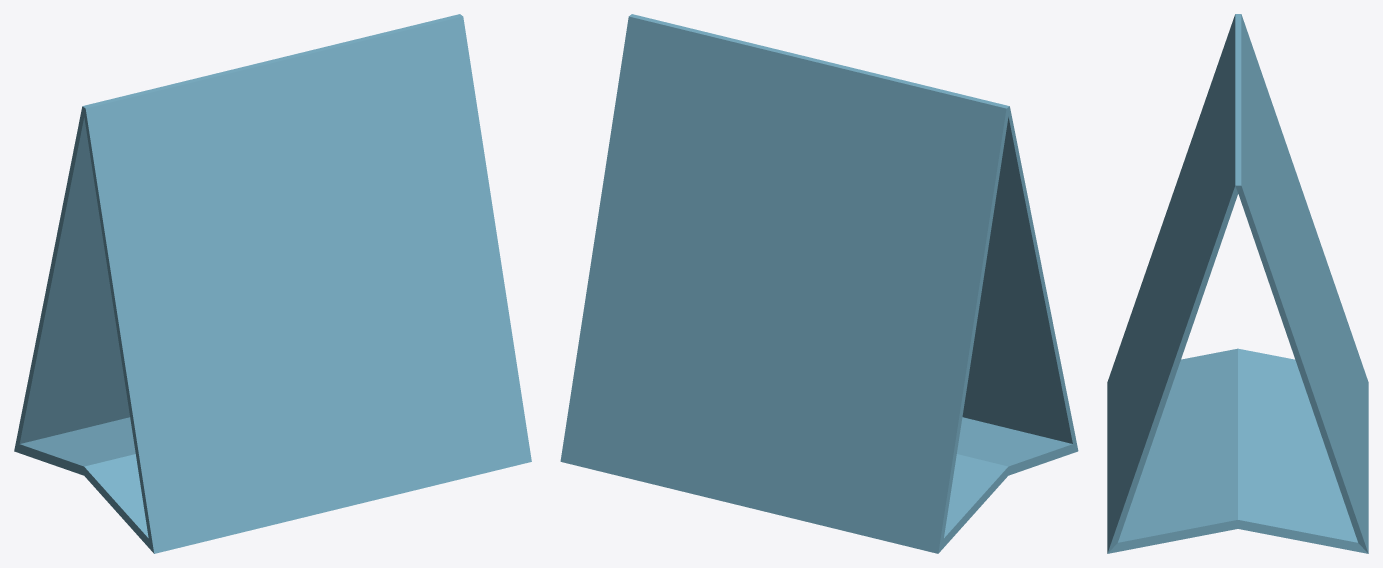
The model's file is Calendar.fbx.
3 views of the same model, side by side, from view 1: azimuth 30°, elevation 25°; view 2: azimuth 150°, elevation 25°; view 3: azimuth 270°, elevation 25° (orthographic). The views are drawn at different scales.
Visible parts, largest first — view 1: Cube; view 2: Cube; view 3: Cube.
Part boxes in pixels (box(x1,y1,x2,y2)): Cube: box(14, 14, 531, 553); Cube: box(560, 14, 1078, 553); Cube: box(1107, 14, 1368, 553).
Size of the model in its own units: 200 by 200 by 129.
